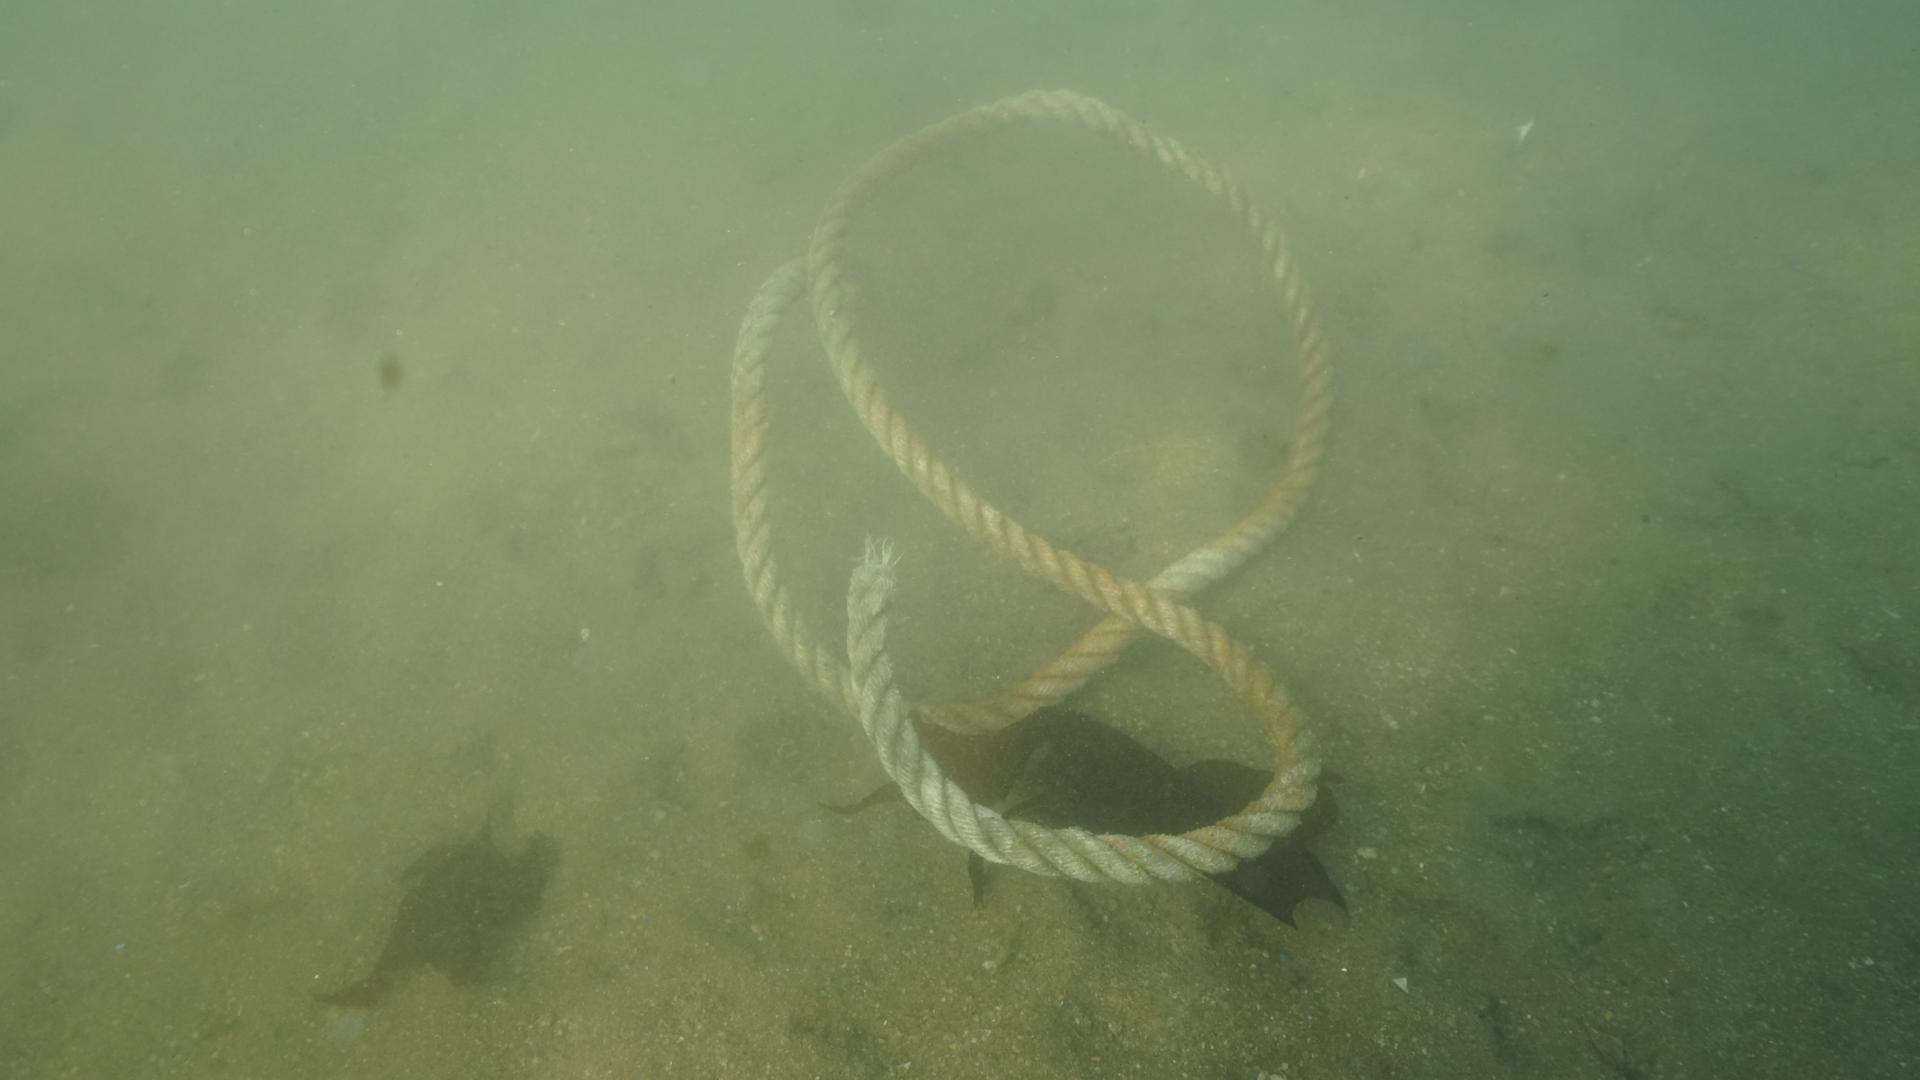rope: (724, 84, 1342, 891)
